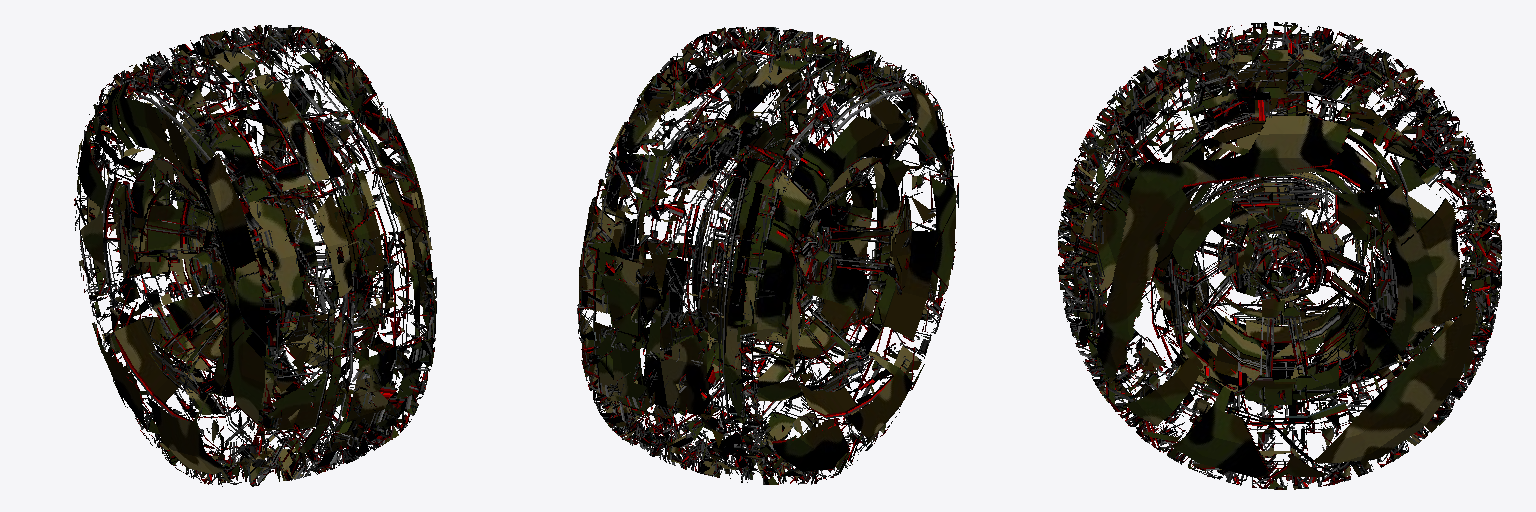
The picture shows the model from 3 angles: view 1: azimuth 30°, elevation 25°; view 2: azimuth 150°, elevation 25°; view 3: azimuth 270°, elevation 25°; orthographic projection.
Visible parts, largest first — view 1: (null).001; view 2: (null).001; view 3: (null).001.
Part boxes in pixels (x1,y1,x2,y2): (null).001: (74,25,436,486); (null).001: (577,27,958,484); (null).001: (1058,22,1501,489).
Size of the model in its own units: 1.03 by 2.02 by 1.97.
4 materials, 1 textured.